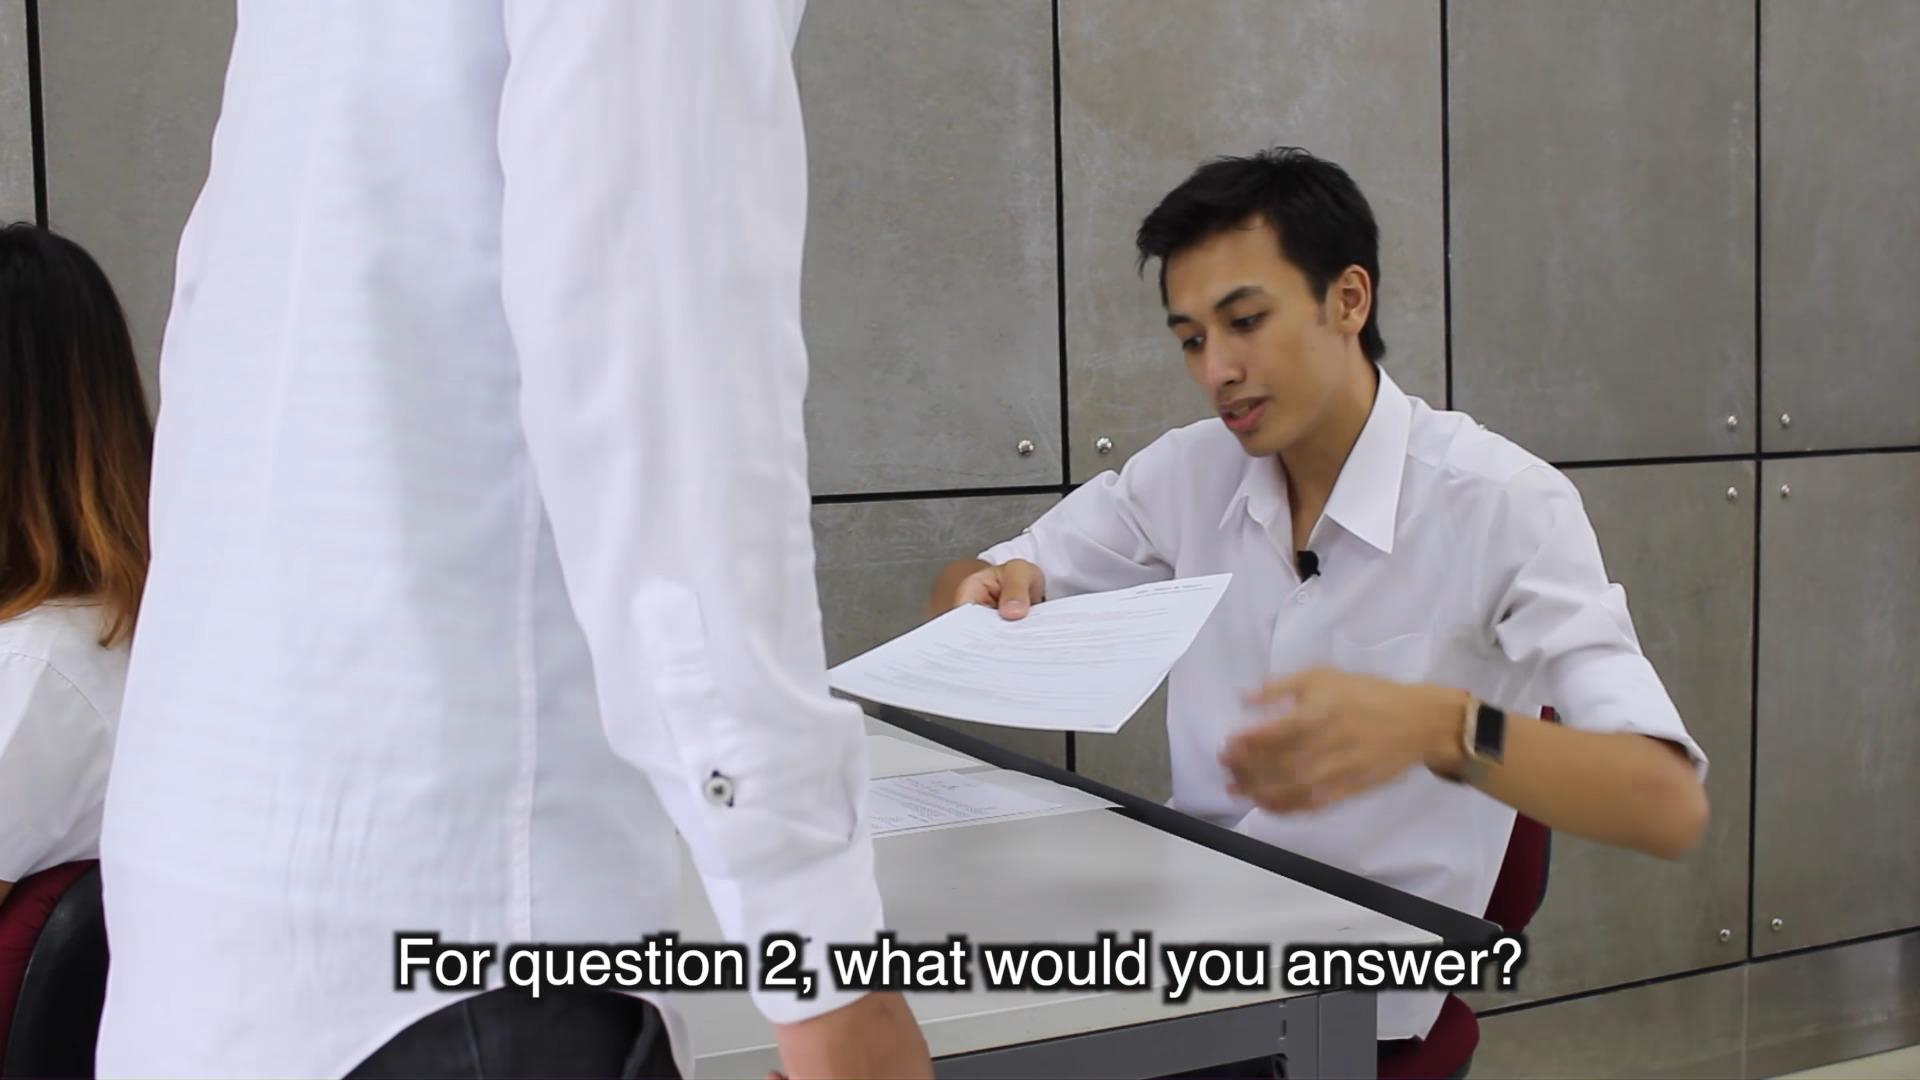good: (800, 131, 1727, 930)
